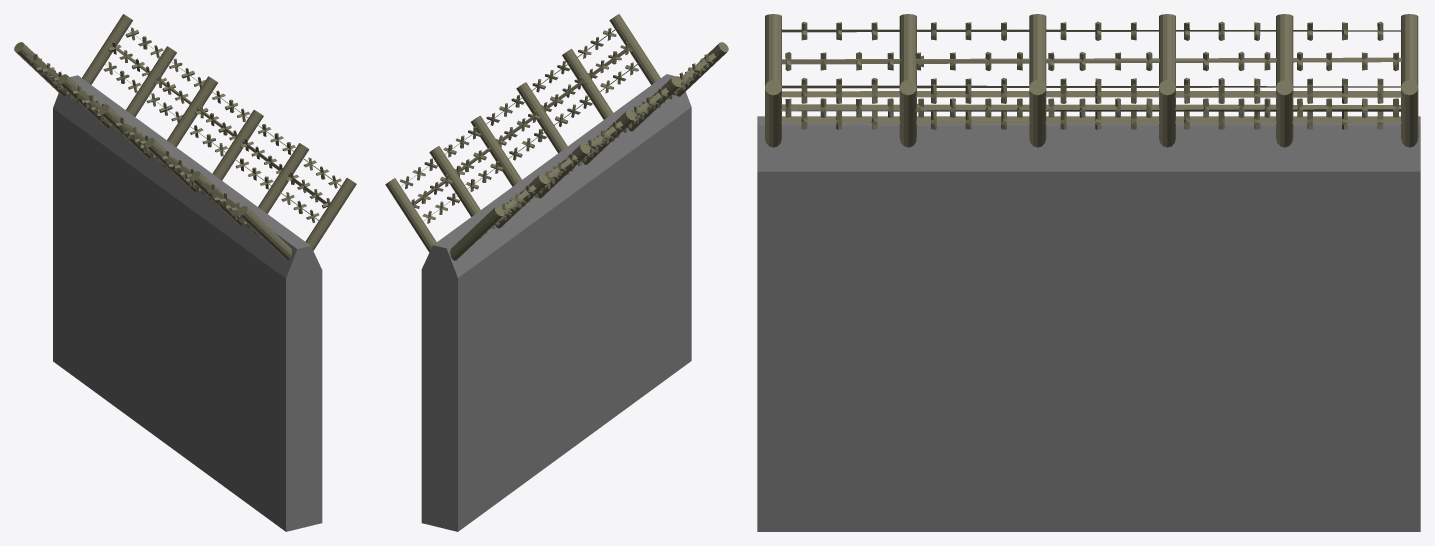
Rendered from wallSpike2.fbx.
3 renders of one model, left to right at view 1: azimuth 30°, elevation 25°; view 2: azimuth 150°, elevation 25°; view 3: azimuth 270°, elevation 25°, orthographic. The views are drawn at different scales.
Visible parts, largest first — view 1: Cube.001, Cylinder.002, Cylinder.000; view 2: Cube.001, Cylinder.002, Cylinder.000; view 3: Cube.001, Cylinder.002, Cylinder.000.
Part boxes in pixels (x1,y1,x2,y2): Cube.001: (53,75,322,531); Cylinder.002: (82,14,356,250); Cylinder.000: (14,42,291,260); Cube.001: (421,74,691,531); Cylinder.002: (385,14,660,252); Cylinder.000: (450,42,728,260); Cube.001: (757,116,1420,531); Cylinder.002: (765,80,1418,147); Cylinder.000: (765,14,1418,90).
Size of the model in its own units: 110 by 298 by 379.
